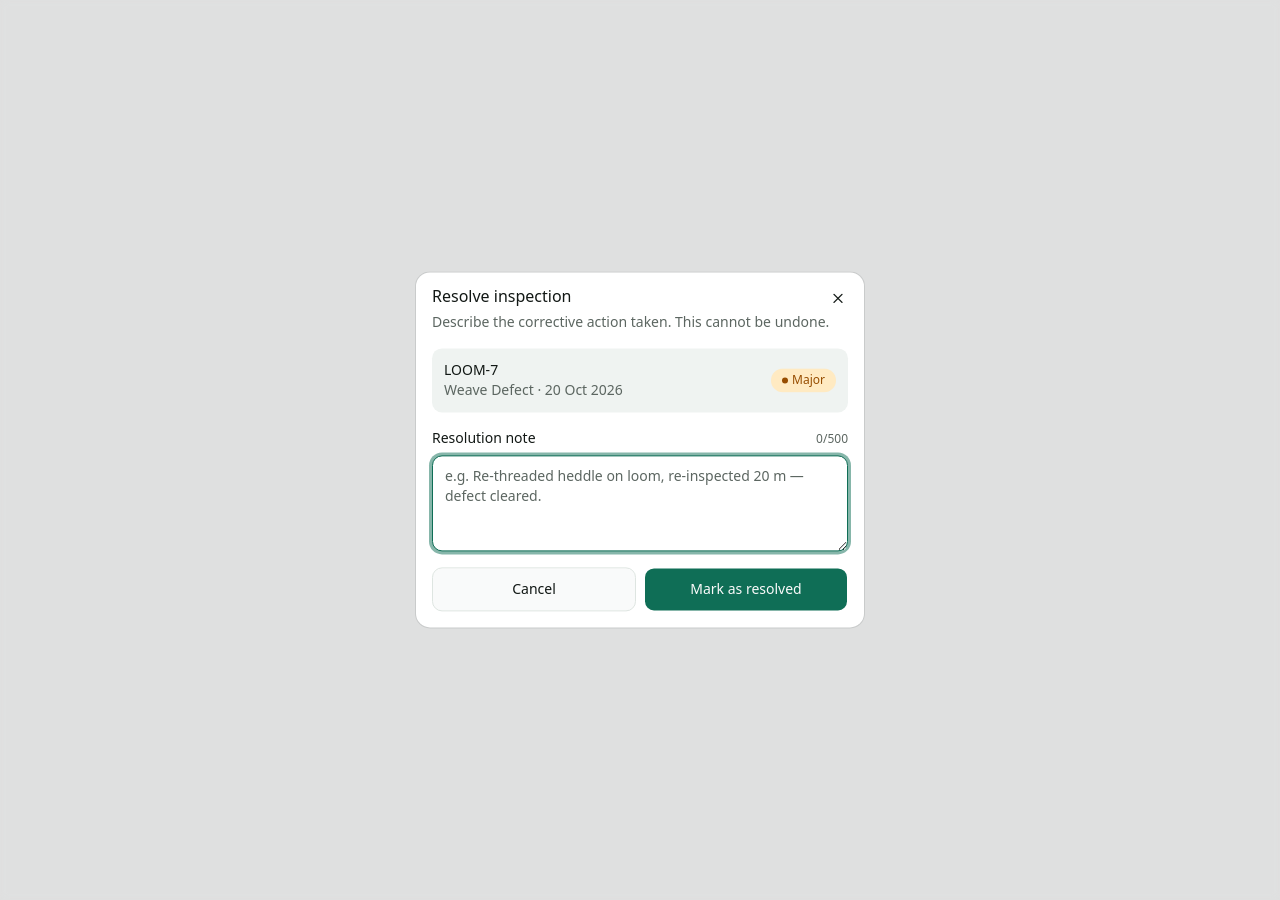
ResolveInspectionDialog (desktop dialog) › surfaces a server validation error on the note field
In the text box labelled "Resolution note": (640,504) x1=432 y1=456 x2=848 y2=552, type "Fixed"
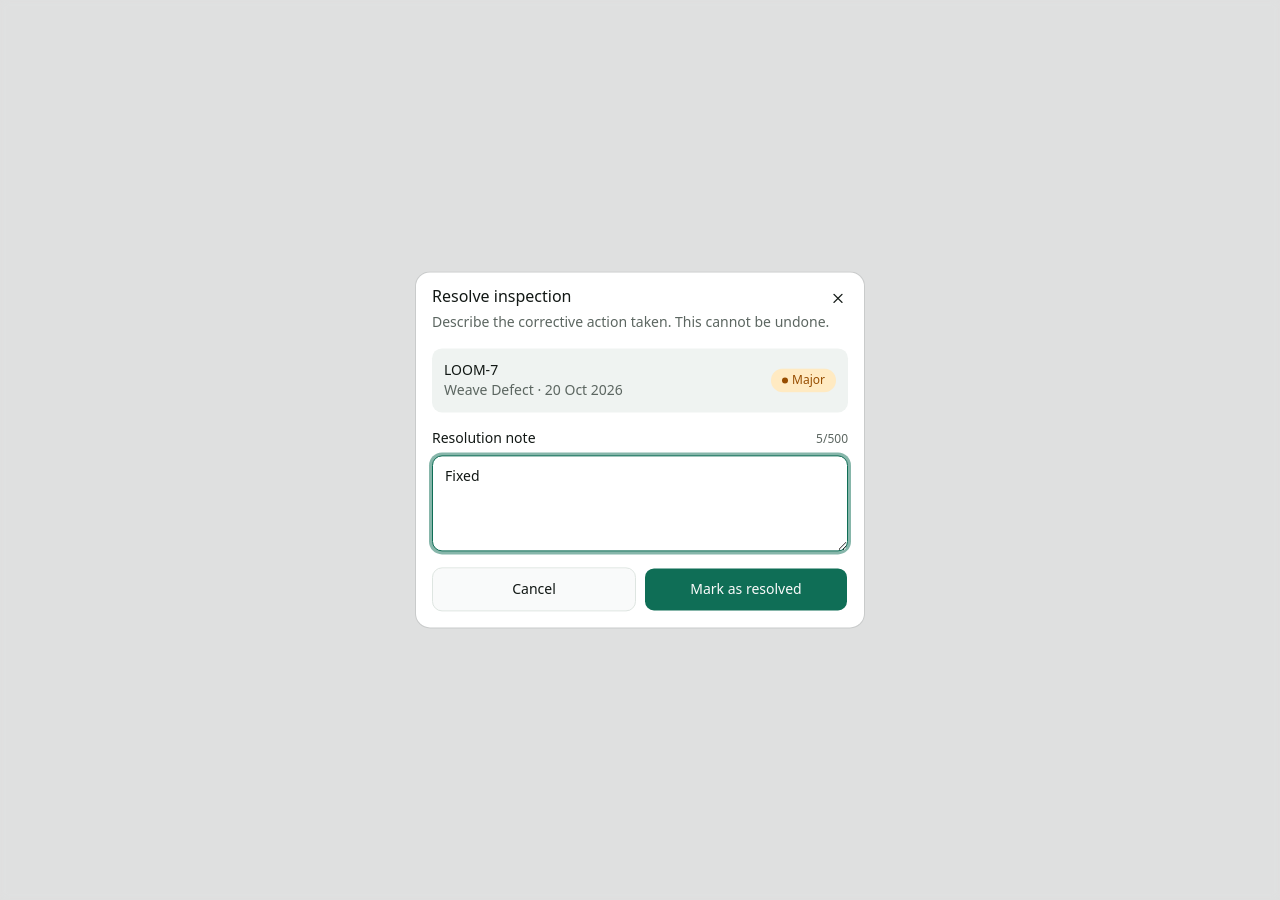
Click the button "Mark as resolved": (746,590) x1=644 y1=568 x2=848 y2=612
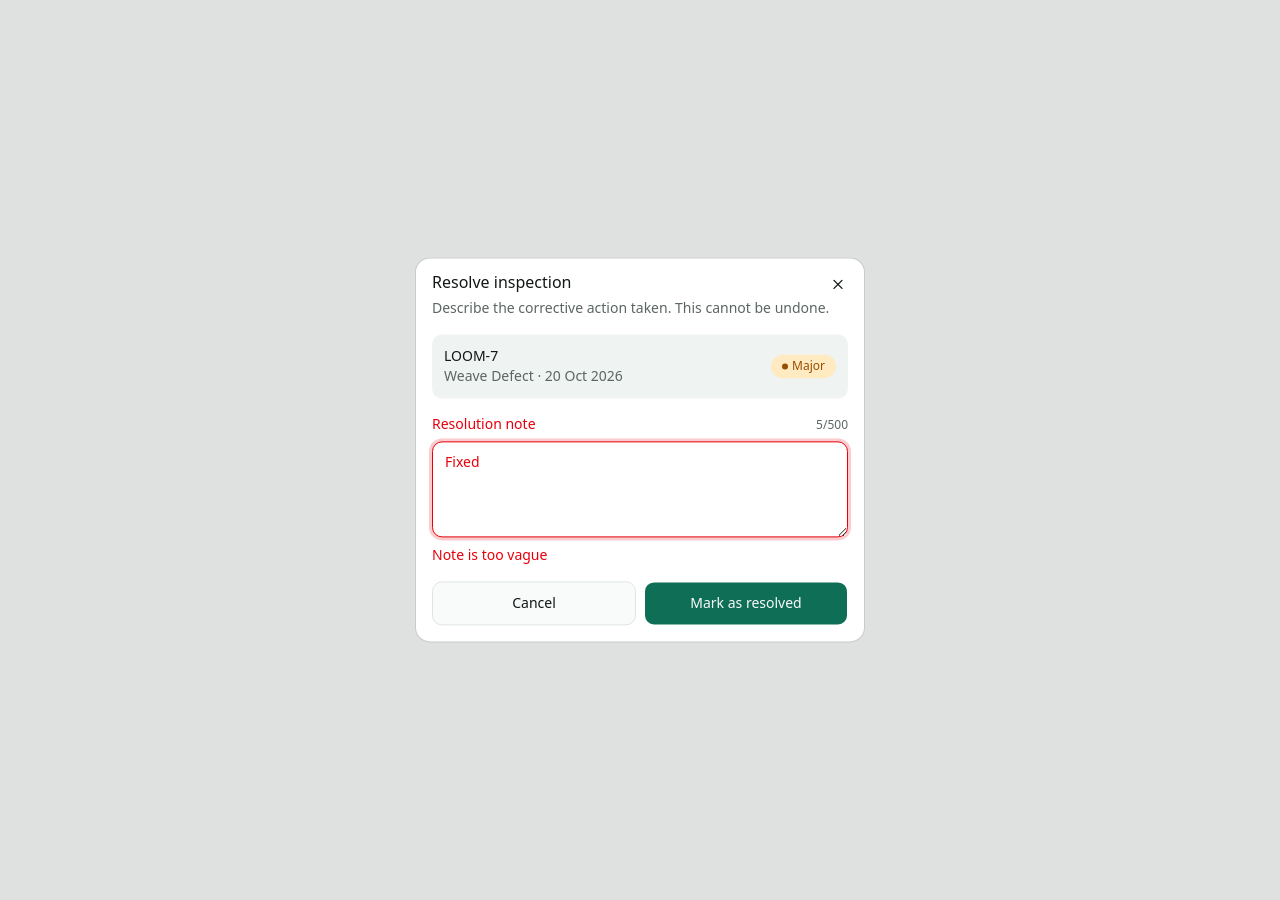
Check: the text "Note is too vague" is shown, box x1=432 y1=546 x2=547 y2=565
